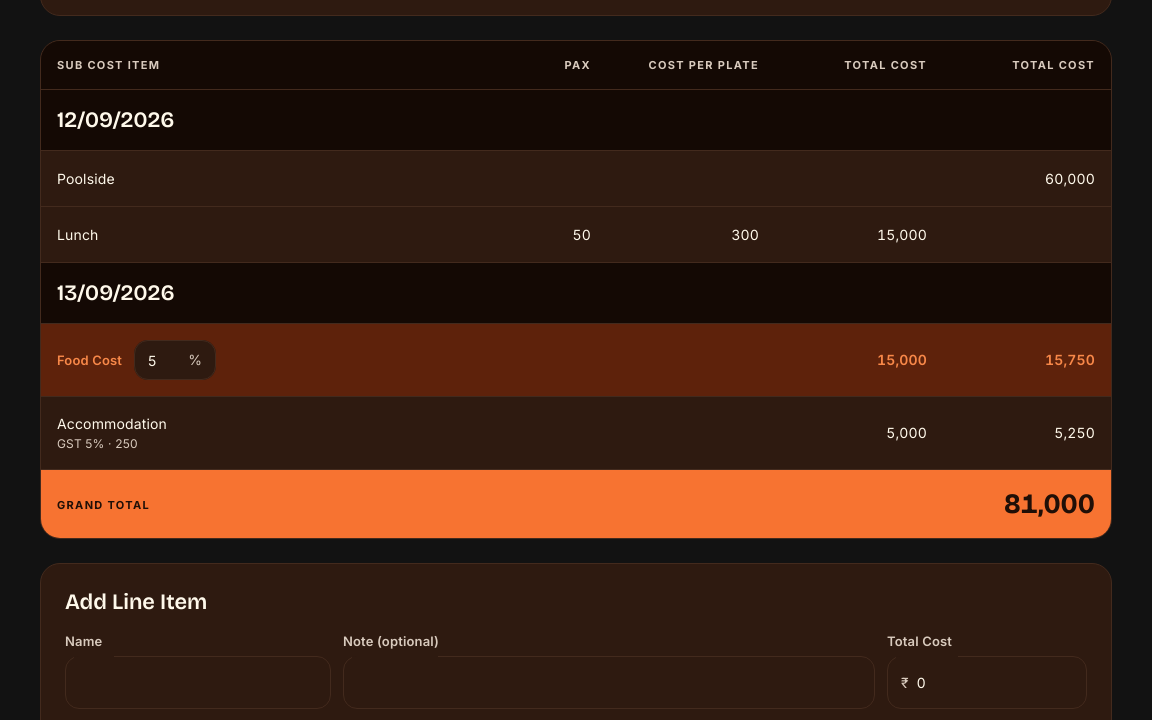
Test case: ReviewStep › recomputes Food Cost with GST and the Grand Total live when the GST % field changes
(page scrolled)
Expected: the text "Poolside" is shown, [41, 151, 439, 207]
Step 1. Replace the text in the number field named "GST %" with "18" → (157, 360), box [134, 342, 180, 379]
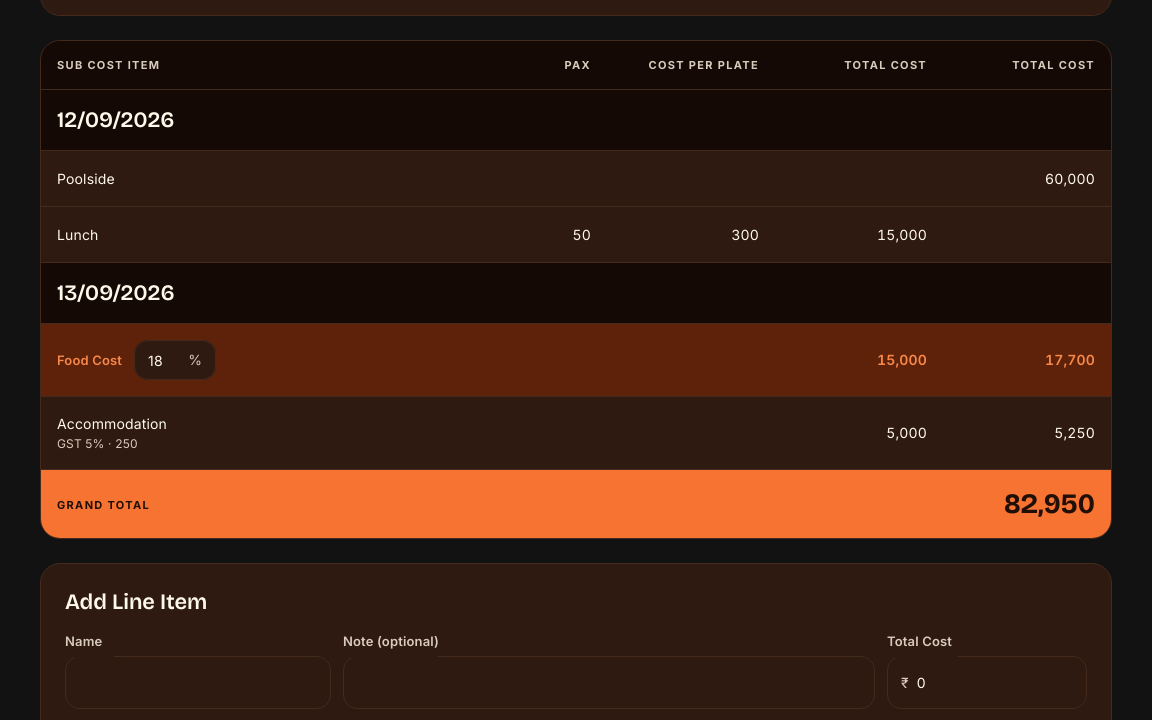
Now the text "17,700" is shown, box [943, 324, 1111, 397]
Now the text "82,950" is shown, box [1004, 487, 1095, 521]
